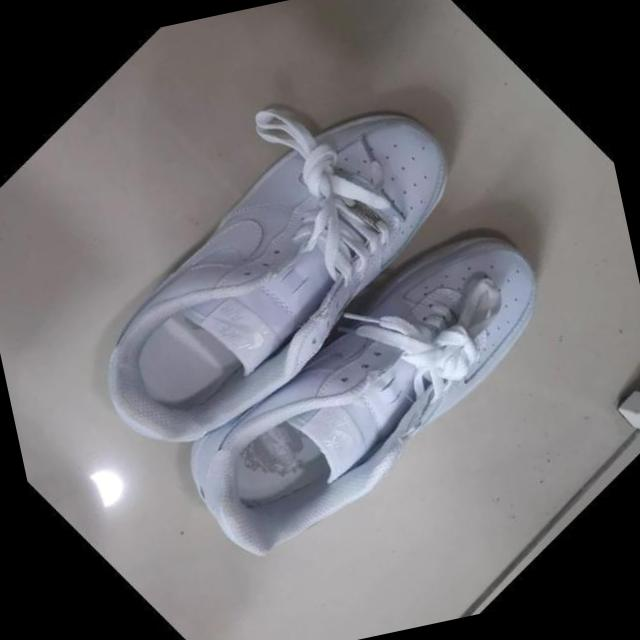nike_fake_airforce: (100, 157, 628, 624), (14, 44, 538, 514)
